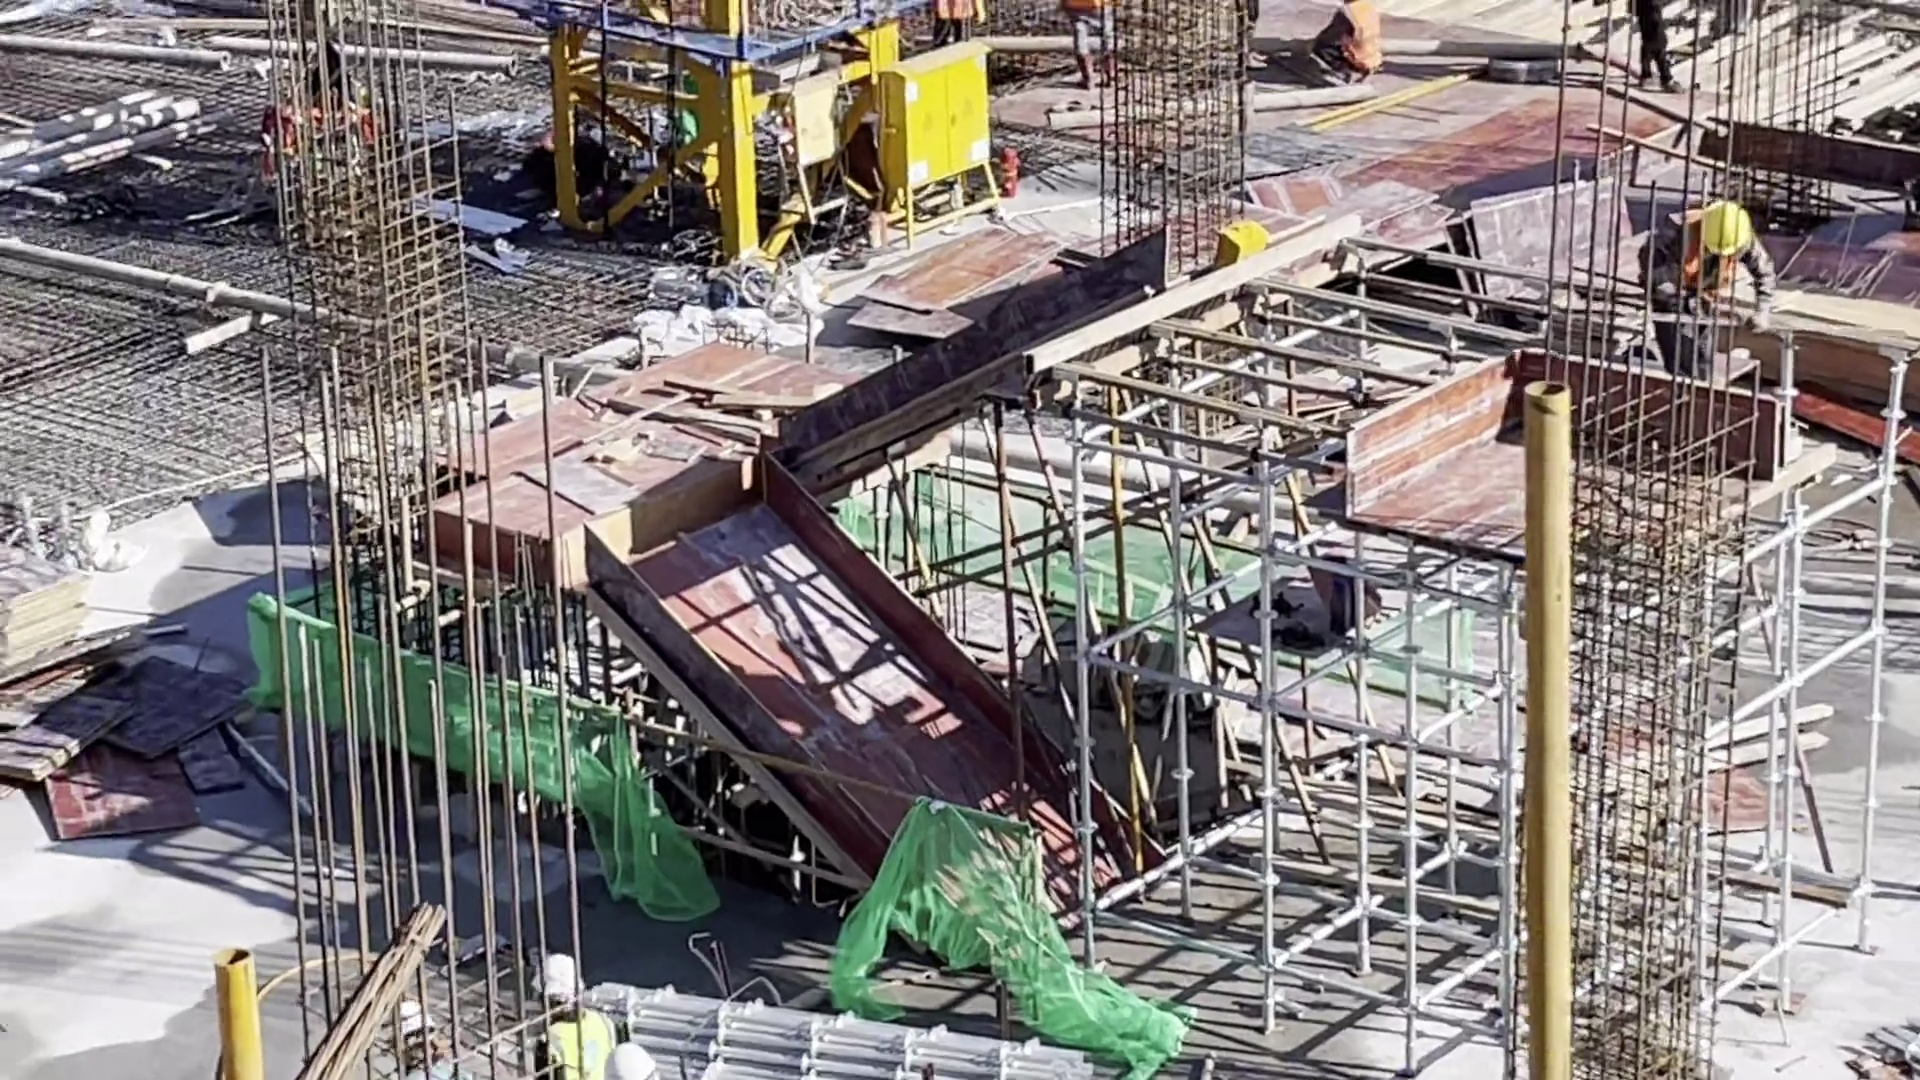board: (448, 335, 859, 591), (1, 548, 94, 669)
ebox: (863, 28, 1014, 248), (768, 71, 859, 229)
helmet: (1706, 202, 1751, 253), (604, 1041, 660, 1080), (534, 956, 584, 996)
person: (1644, 200, 1786, 375), (533, 953, 622, 1080), (1315, 1, 1384, 82)
scaffold: (683, 992, 1086, 1080)
vest: (541, 1012, 615, 1080), (1340, 1, 1383, 67)
